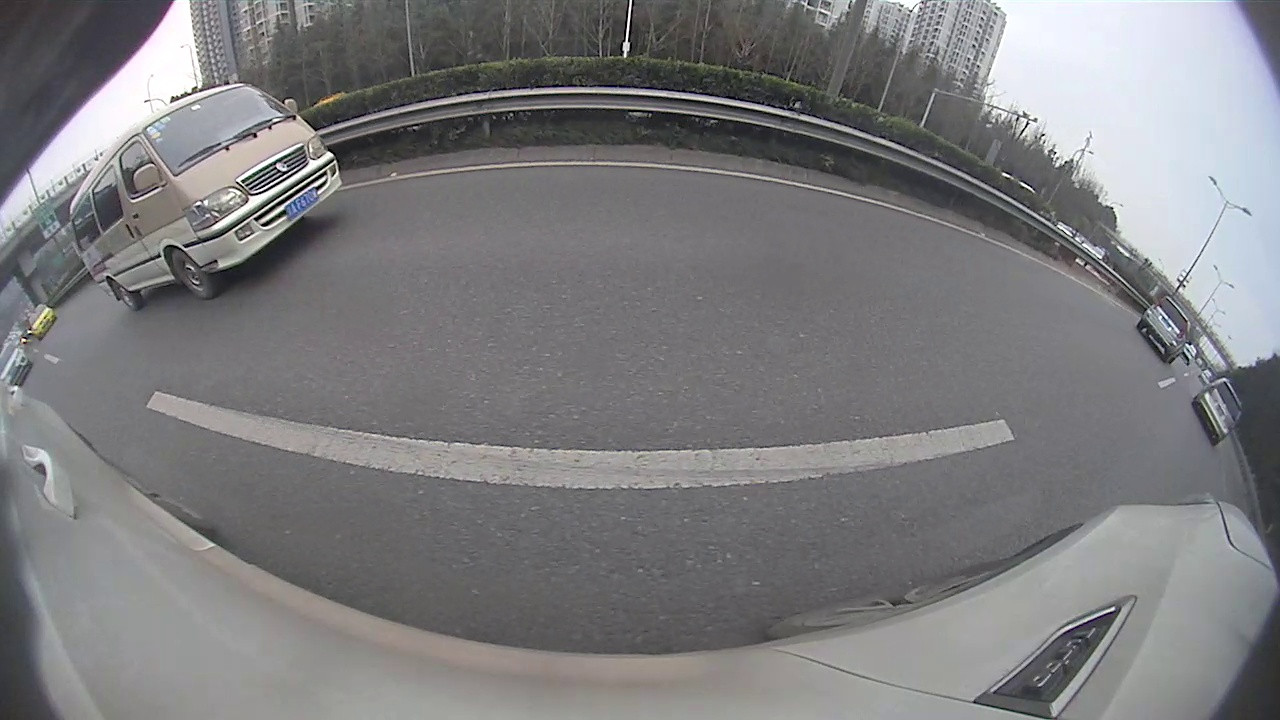car: (64, 80, 345, 310), (1138, 294, 1193, 365), (1190, 374, 1245, 445)
front: (169, 245, 223, 301)
rear: (112, 278, 147, 311)
